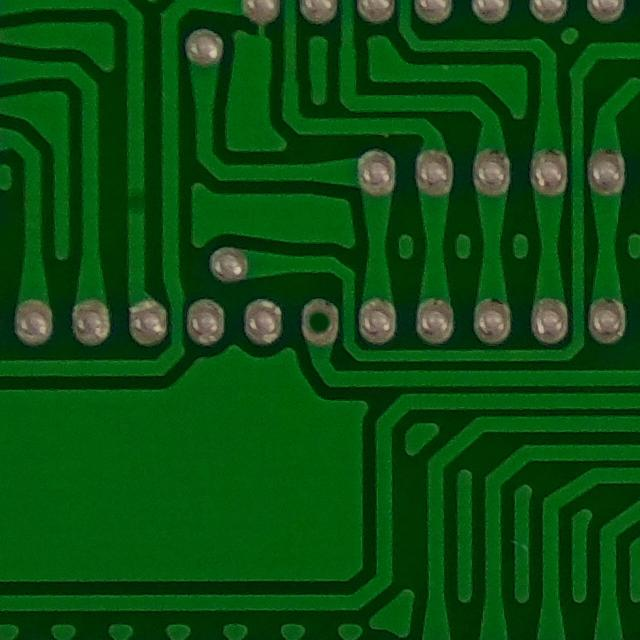missing_hole: (291, 292, 349, 348)
